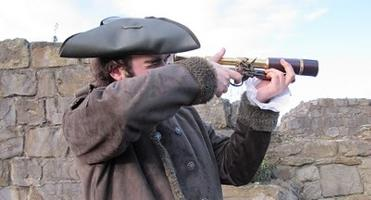person: (60, 17, 296, 200)
